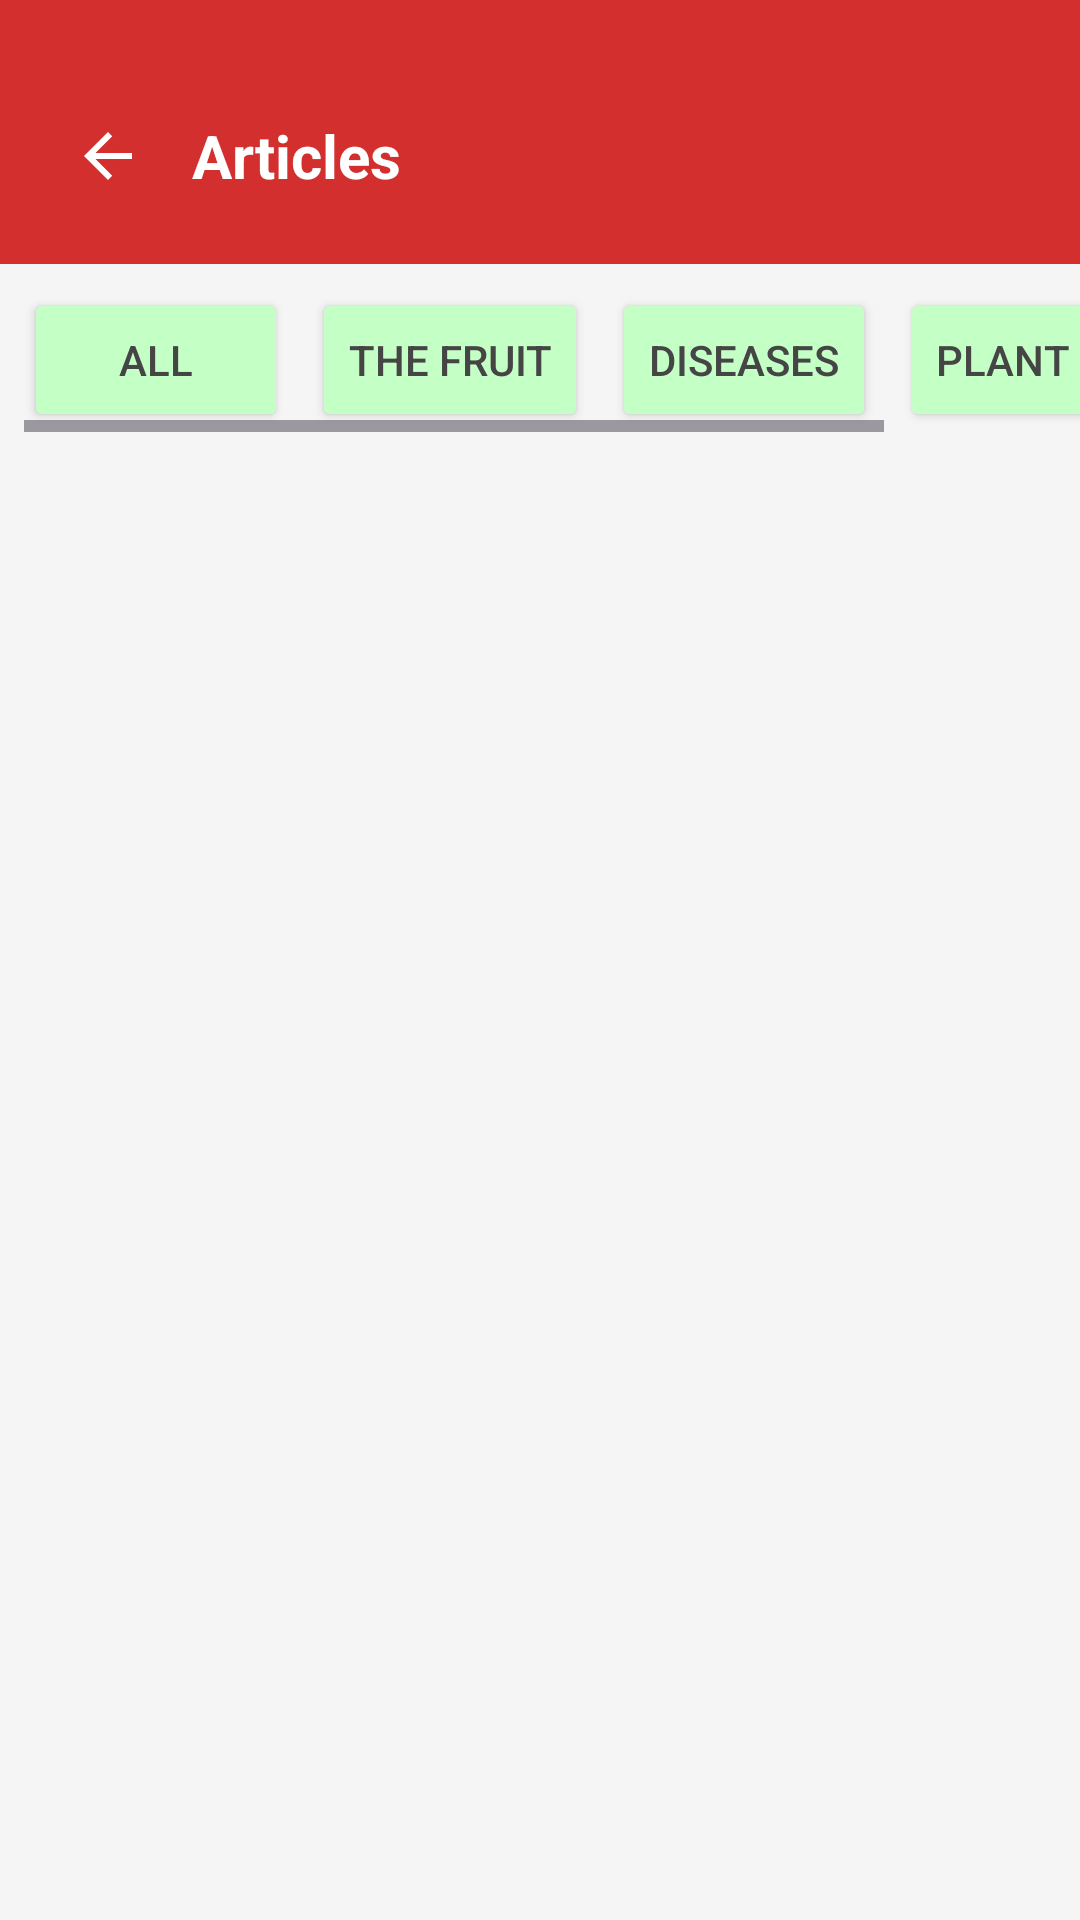

Named icons in this screenshot (1080x1920) and their centers, (x=x, y=y):
Back: (x=108, y=156)
